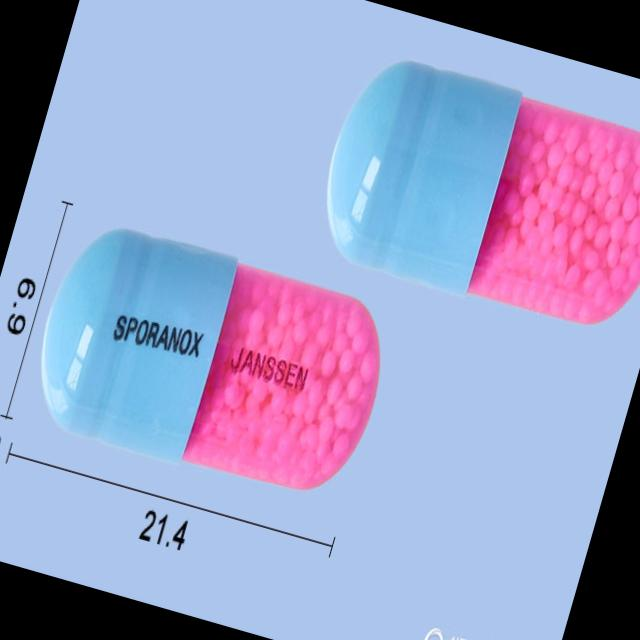Sporanox Cap: (21, 213, 404, 504)
